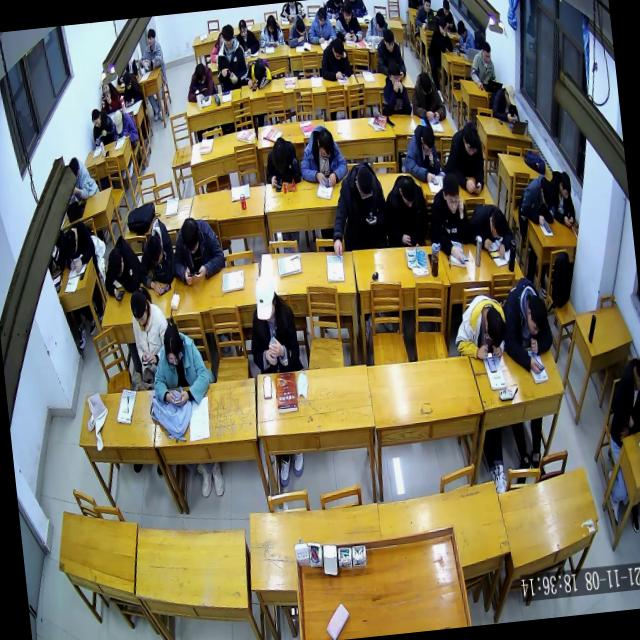bow: (496, 273, 556, 377), (448, 292, 511, 365), (132, 216, 178, 299), (466, 198, 516, 262), (99, 231, 144, 302), (514, 170, 559, 228), (260, 133, 304, 191), (60, 216, 98, 273), (182, 57, 216, 103), (241, 54, 273, 92), (362, 8, 391, 46), (284, 11, 309, 48)
down: (604, 381, 640, 457), (251, 271, 281, 325), (522, 292, 550, 340), (160, 322, 188, 369), (482, 305, 508, 351), (439, 171, 464, 217), (127, 287, 152, 329), (178, 215, 202, 258), (353, 162, 376, 203), (396, 172, 419, 210), (314, 126, 336, 164), (486, 206, 508, 244), (144, 233, 166, 270), (460, 119, 480, 159), (537, 175, 558, 212), (106, 244, 126, 282), (268, 140, 288, 174), (418, 122, 437, 157), (556, 168, 573, 202), (61, 227, 80, 256), (418, 70, 435, 99), (218, 22, 234, 49), (328, 36, 345, 61), (502, 82, 518, 108), (68, 154, 82, 183), (381, 27, 396, 54), (112, 106, 125, 136), (250, 59, 266, 82), (193, 59, 207, 85), (372, 8, 387, 32), (339, 0, 354, 23), (315, 4, 329, 28), (454, 18, 468, 41), (293, 16, 307, 38), (89, 107, 103, 128), (480, 40, 492, 64), (264, 12, 276, 35), (236, 17, 248, 39), (120, 69, 132, 89), (440, 0, 451, 18)
lookup: (386, 60, 404, 90), (144, 25, 158, 46), (100, 80, 111, 97), (421, 0, 432, 14)
sit: (324, 158, 391, 257), (242, 268, 302, 377), (146, 316, 213, 410), (126, 282, 174, 387), (424, 170, 473, 269), (166, 210, 227, 288), (380, 170, 432, 250), (439, 119, 488, 199), (296, 121, 350, 190), (211, 20, 250, 91), (400, 120, 442, 185), (407, 66, 448, 125), (376, 56, 414, 119), (373, 26, 408, 81), (547, 168, 578, 230), (317, 34, 353, 82), (66, 153, 100, 201), (467, 39, 497, 92), (304, 4, 338, 48), (488, 80, 520, 126), (331, 0, 363, 44), (134, 26, 164, 72), (424, 14, 454, 59), (108, 104, 138, 146), (88, 102, 115, 148), (233, 15, 260, 56), (256, 12, 284, 50), (98, 75, 122, 115), (452, 17, 477, 55), (119, 70, 143, 106), (412, 0, 436, 33), (435, 0, 456, 32)
